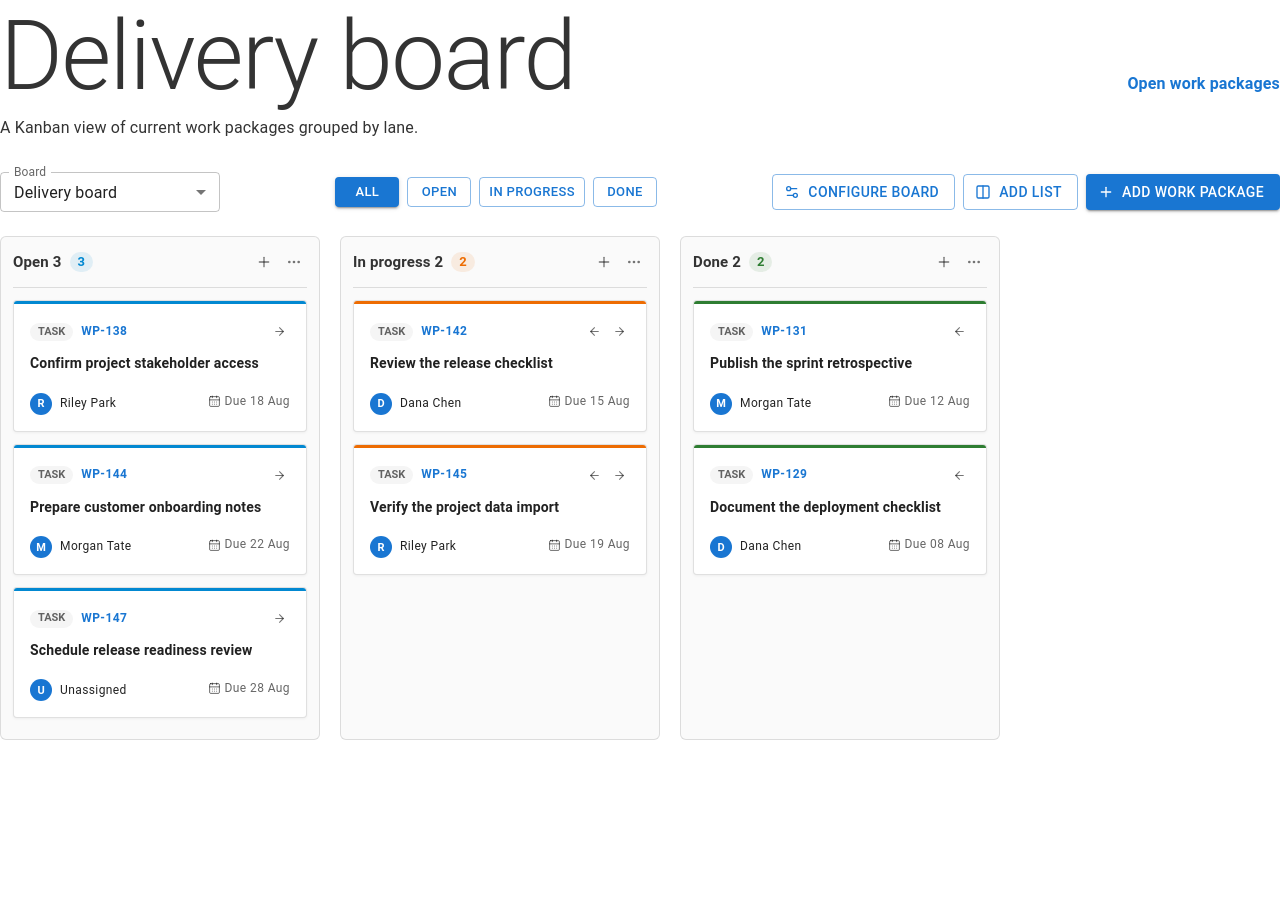
Scenario: ProjectBoard › saves board configuration locally
Click the button "Configure board": (864, 192) top-left (772, 174), bottom-right (955, 210)
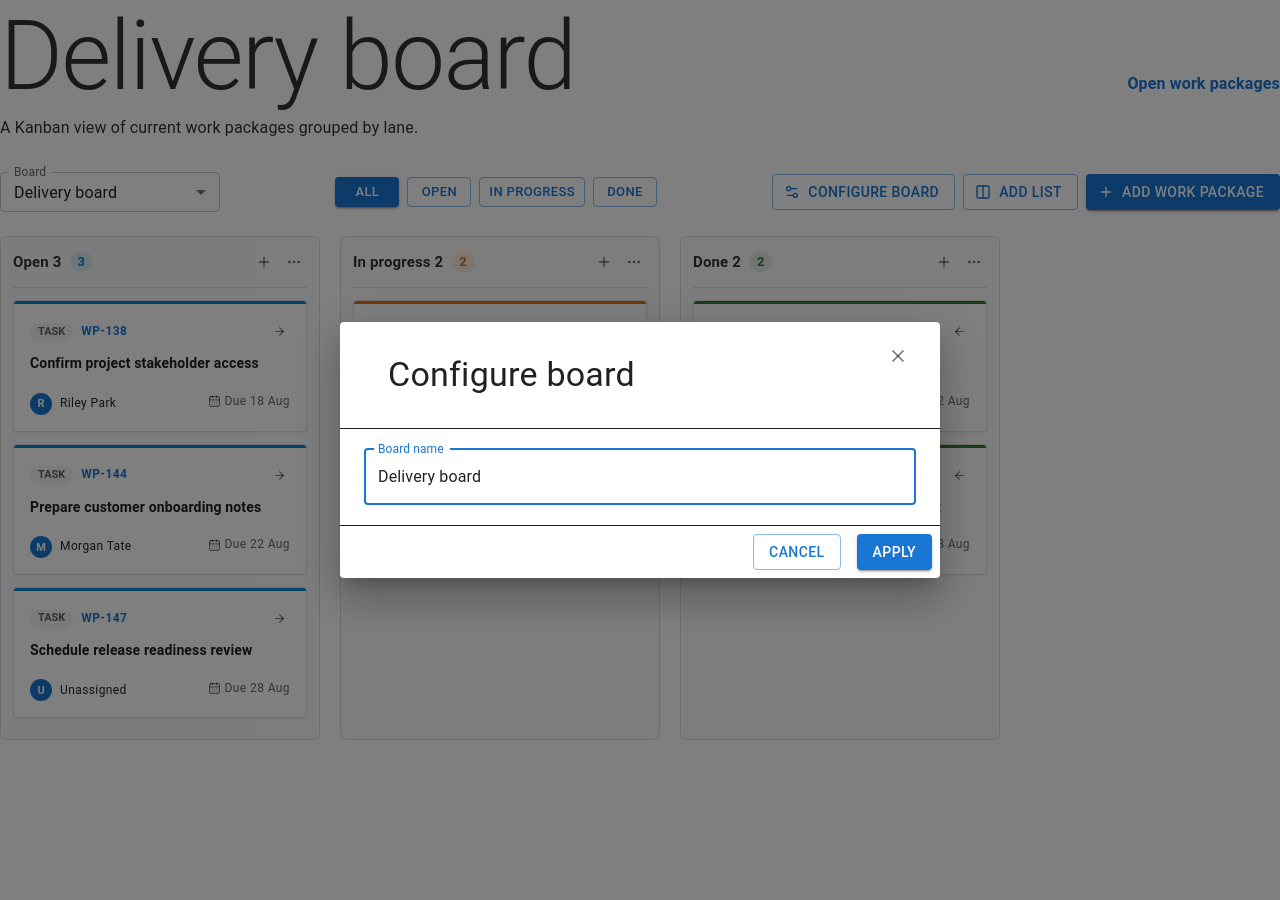
Check: the dialog "Configure board" is shown, box top-left (340, 322), bottom-right (940, 578)
Replace the text in the field labelled "Board name" with "Delivery planning": (640, 477) top-left (364, 449), bottom-right (916, 505)
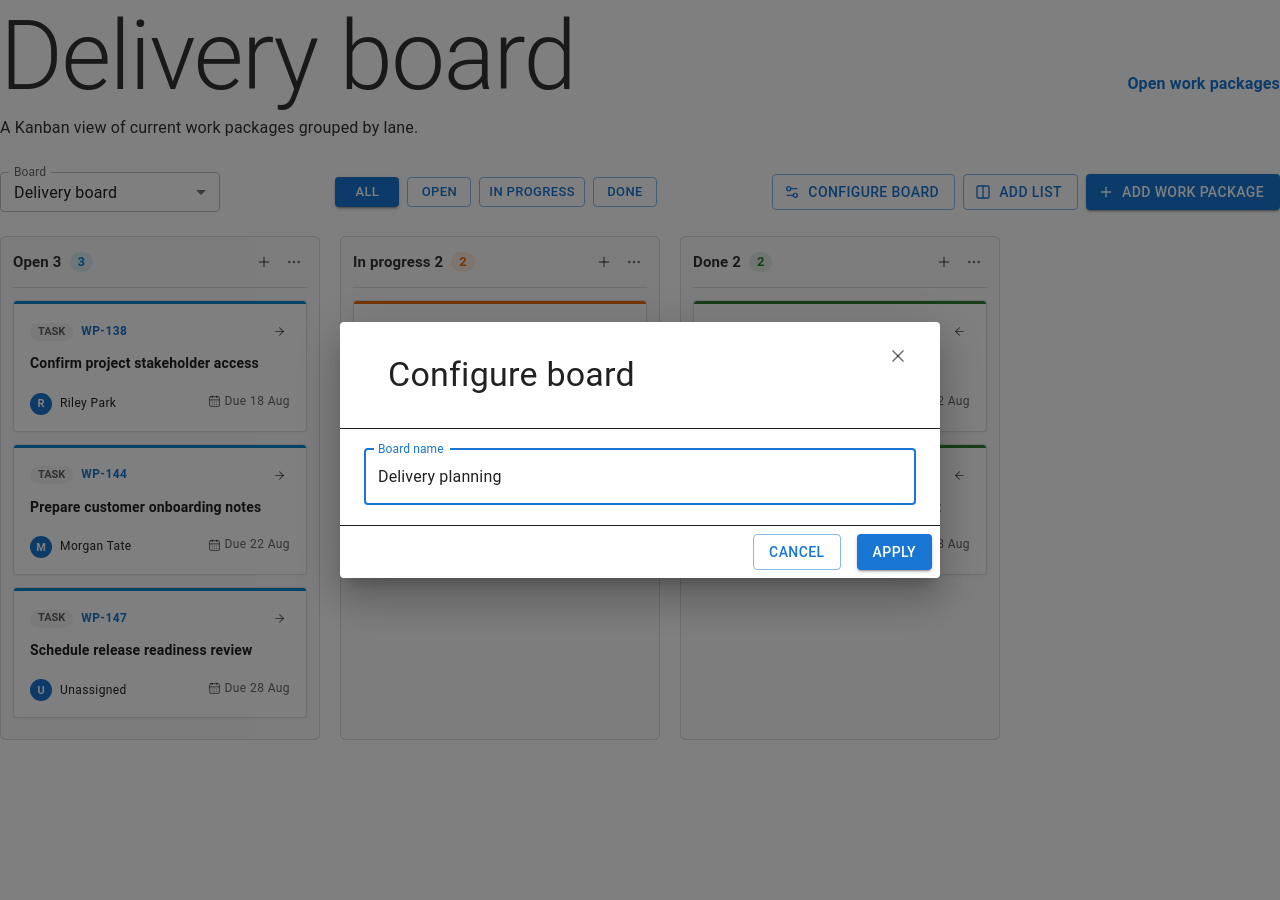
Click the button "Apply": (894, 552) top-left (857, 534), bottom-right (932, 570)
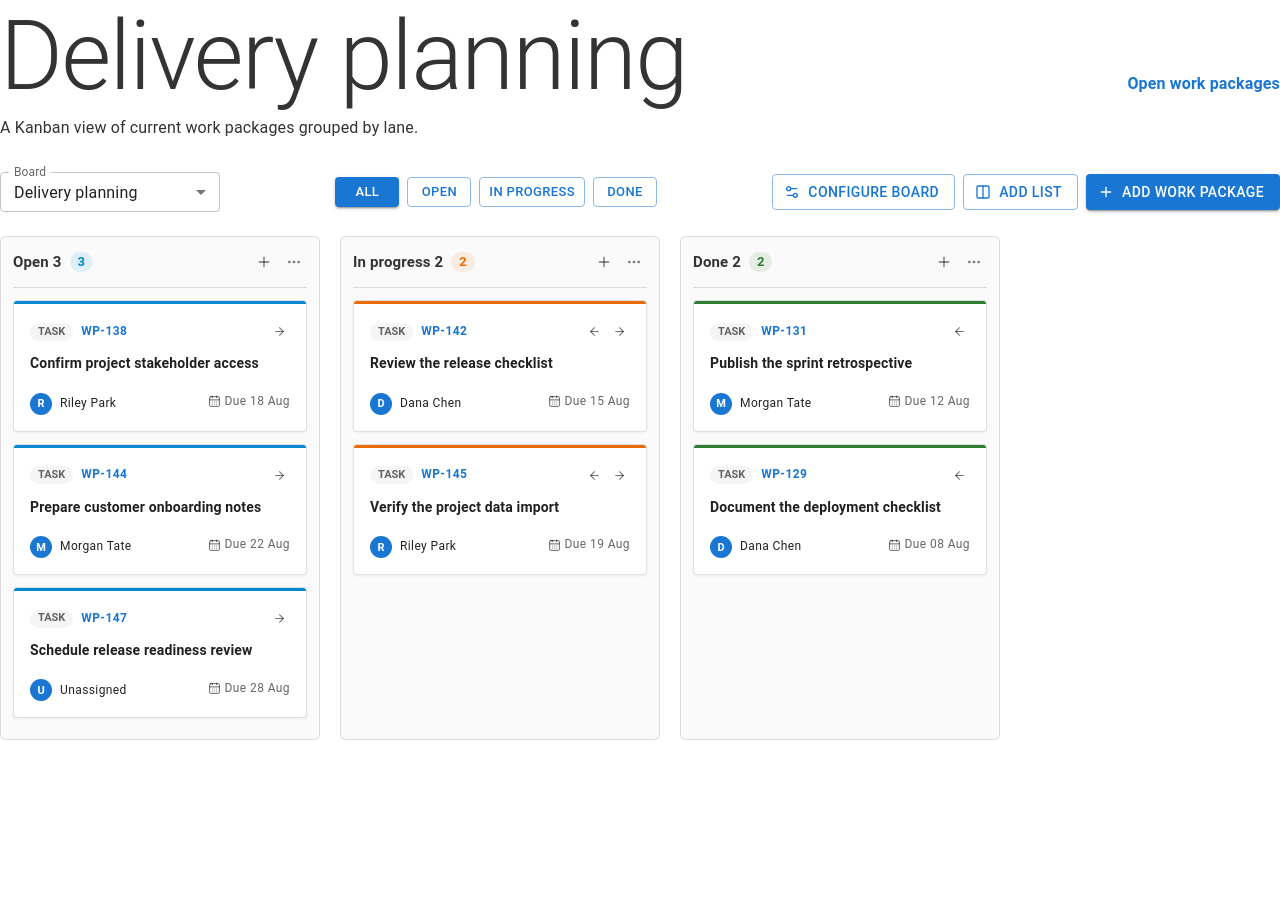
Check: the heading "Delivery planning" is shown, box top-left (0, 0), bottom-right (687, 112)
